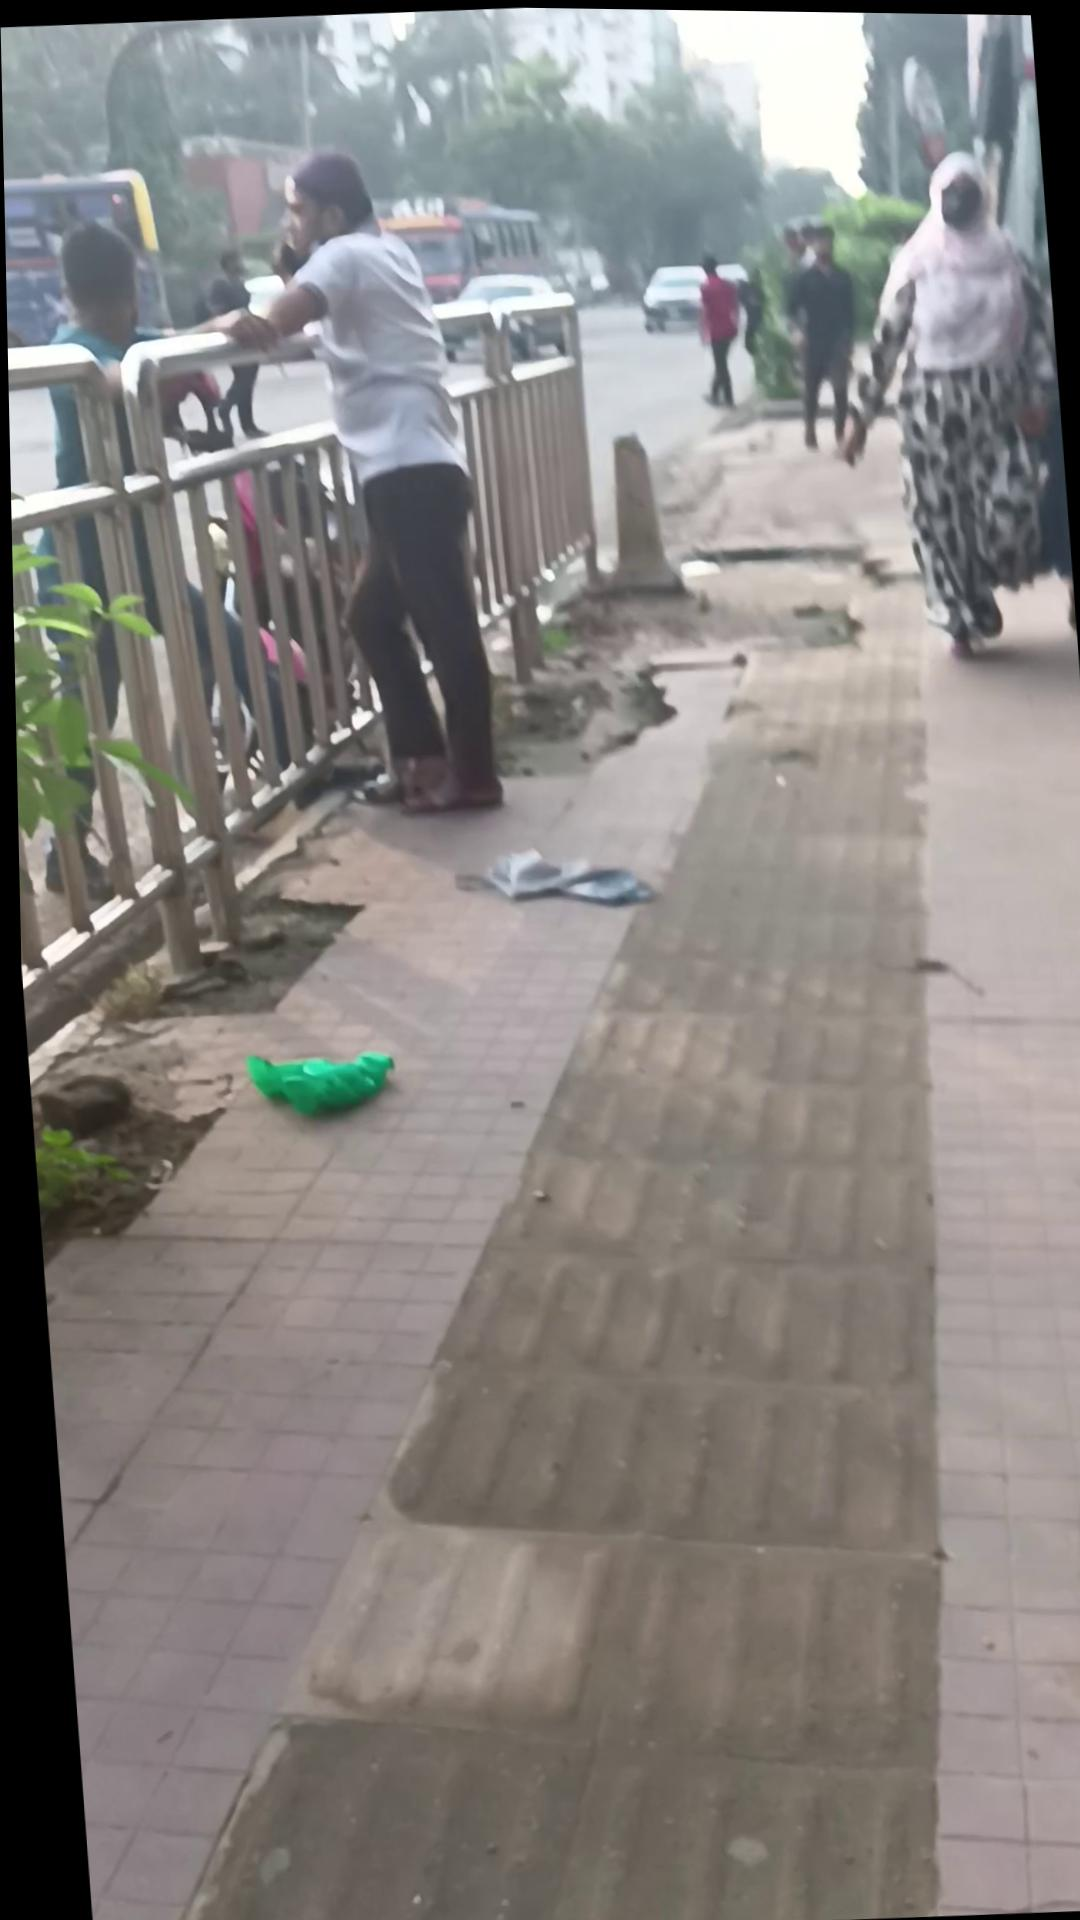Car: (636, 257, 750, 332)
Muddy road: (4, 207, 315, 906), (199, 140, 502, 823), (814, 141, 1073, 662), (775, 219, 864, 448), (199, 245, 269, 442), (690, 248, 744, 406)
Potted-plant: (7, 342, 1080, 1920)
Rickshaw: (591, 426, 683, 597)
